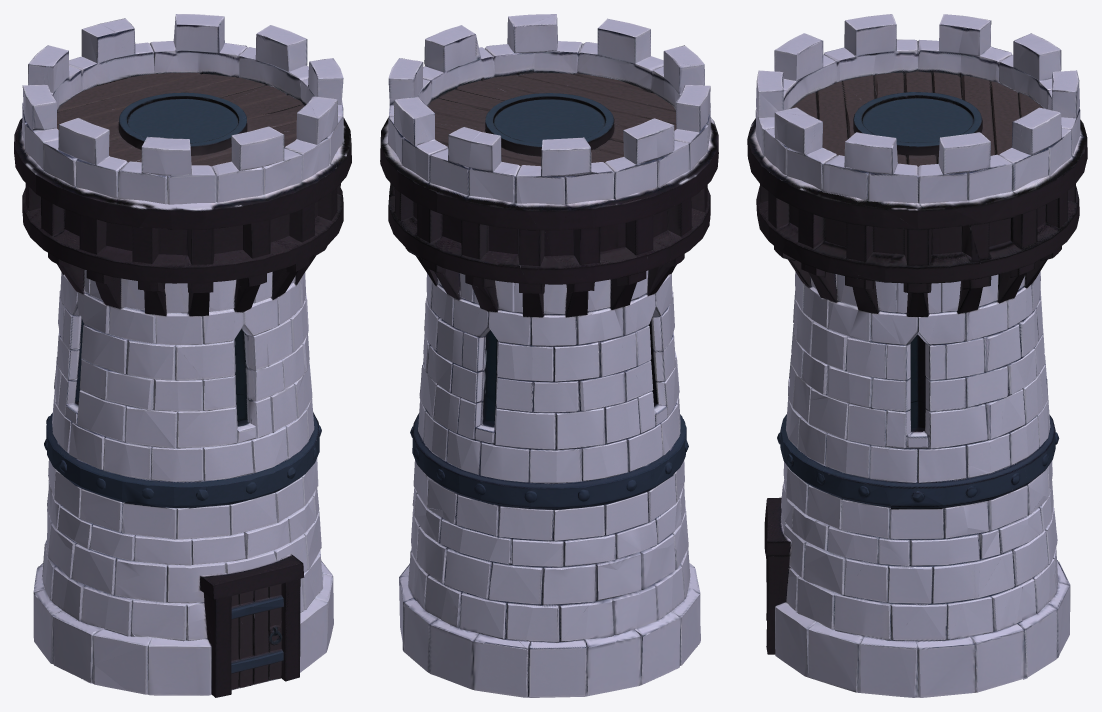
Rendered from body.glb.
3 renders of one model, left to right at view 1: azimuth 30°, elevation 25°; view 2: azimuth 150°, elevation 25°; view 3: azimuth 270°, elevation 25°, orthographic.
Bounding box in the file's own units: 1.06 × 1.9 × 1.06.
1 material, 1 textured.
